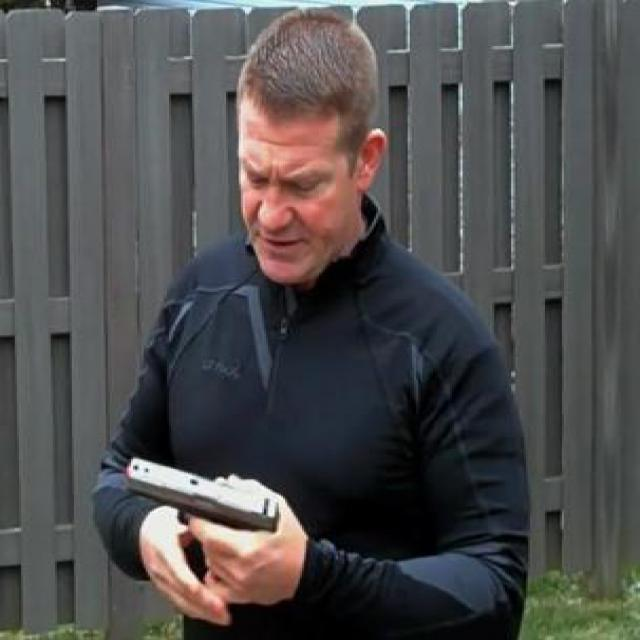Gun: (127, 452, 296, 598)
